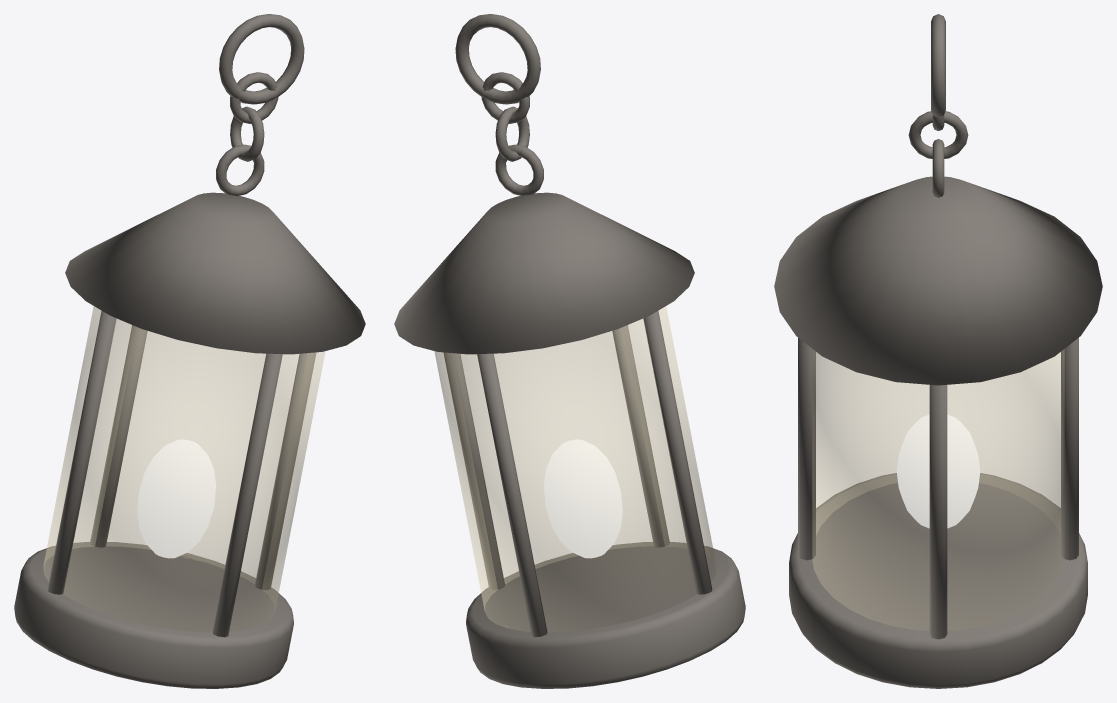
Rendered from meshgate_lantern.fbx.
3 renders of one model, left to right at view 1: azimuth 30°, elevation 25°; view 2: azimuth 150°, elevation 25°; view 3: azimuth 270°, elevation 25°, orthographic. The views are drawn at different scales.
Parts seen in each view (by area): view 1: glass_body, cap, base, flame, bar_3, bar_2, bar_0, bar_1, hook_ring, chain_2, chain_0, chain_1; view 2: glass_body, cap, base, flame, bar_1, bar_2, bar_0, bar_3, hook_ring, chain_2, chain_0, chain_1; view 3: glass_body, cap, base, flame, bar_0, bar_1, bar_3, hook_ring, chain_1, chain_2.
Part boxes in pixels (bbox=[...]): glass_body: bbox=[43, 306, 325, 632]; cap: bbox=[65, 192, 365, 354]; base: bbox=[14, 542, 293, 688]; flame: bbox=[137, 439, 216, 558]; bar_3: bbox=[212, 353, 282, 637]; bar_2: bbox=[47, 311, 116, 594]; bar_0: bbox=[255, 352, 316, 590]; bar_1: bbox=[90, 325, 147, 547]; hook_ring: bbox=[219, 14, 304, 104]; chain_2: bbox=[216, 144, 264, 196]; chain_0: bbox=[230, 72, 278, 123]; chain_1: bbox=[230, 106, 264, 161]; glass_body: bbox=[434, 306, 716, 632]; cap: bbox=[394, 192, 694, 354]; base: bbox=[466, 542, 745, 688]; flame: bbox=[543, 439, 622, 558]; bar_1: bbox=[477, 353, 547, 637]; bar_2: bbox=[643, 311, 712, 594]; bar_0: bbox=[443, 352, 504, 590]; bar_3: bbox=[612, 325, 669, 547]; hook_ring: bbox=[455, 14, 540, 104]; chain_2: bbox=[495, 144, 543, 196]; chain_0: bbox=[481, 72, 529, 123]; chain_1: bbox=[495, 106, 529, 161]; glass_body: bbox=[812, 349, 1064, 630]; cap: bbox=[774, 176, 1102, 385]; base: bbox=[789, 473, 1087, 688]; flame: bbox=[896, 414, 980, 528]; bar_0: bbox=[929, 385, 947, 639]; bar_1: bbox=[1061, 338, 1078, 560]; bar_3: bbox=[798, 338, 815, 560]; hook_ring: bbox=[931, 14, 945, 117]; chain_1: bbox=[908, 111, 968, 158]; chain_2: bbox=[932, 139, 944, 197].
Bounding box in the file's own units: 0.2593 × 0.4947 × 0.22.
